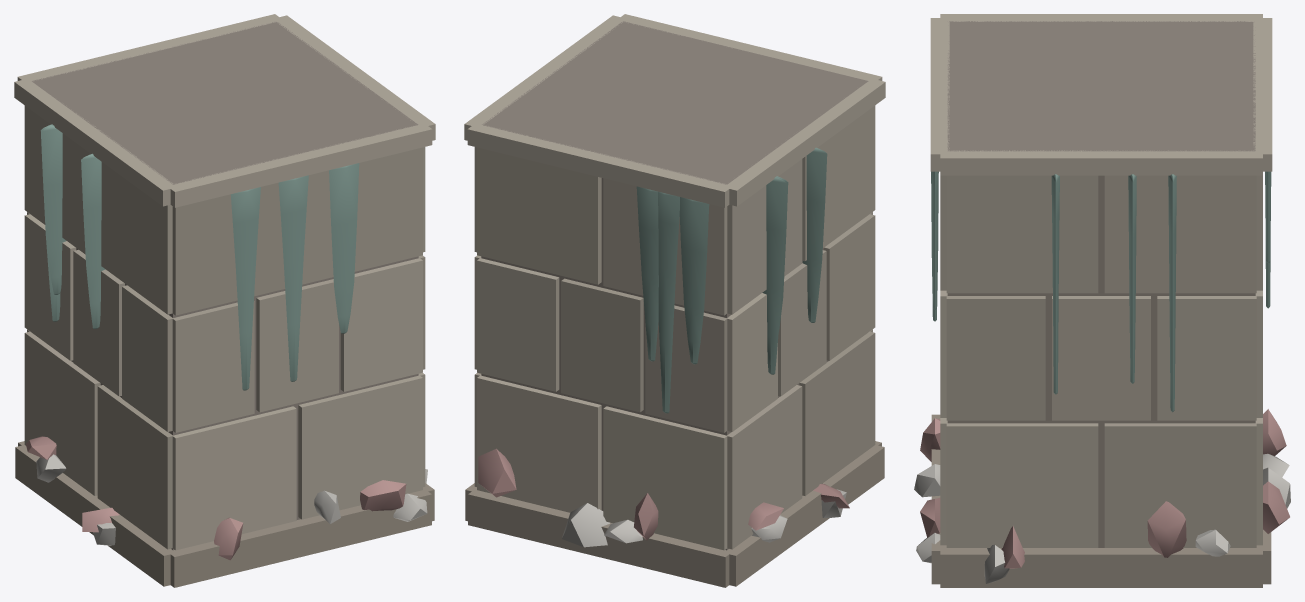
Rendered from dk_wall_crusted.gltf.
3 renders of one model, left to right at view 1: azimuth 30°, elevation 25°; view 2: azimuth 150°, elevation 25°; view 3: azimuth 270°, elevation 25°, orthographic. The views are drawn at different scales.
Parts seen in each view (by area): view 1: Body; view 2: Body; view 3: Body.
Part boxes in pixels (x1=…): Body: x1=14, y1=14, x2=435, y2=587; Body: x1=464, y1=14, x2=885, y2=587; Body: x1=914, y1=14, x2=1290, y2=587.
Size of the model in its own units: 3.72 by 4.5 by 3.58.
